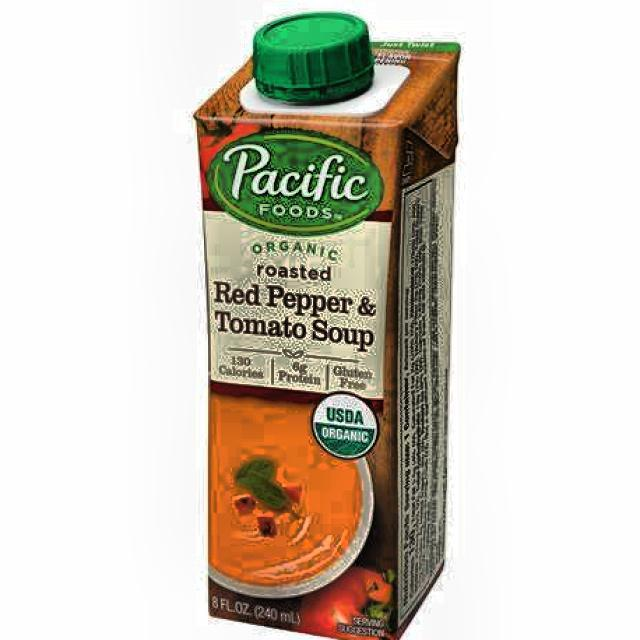cardboard: (193, 21, 460, 640)
